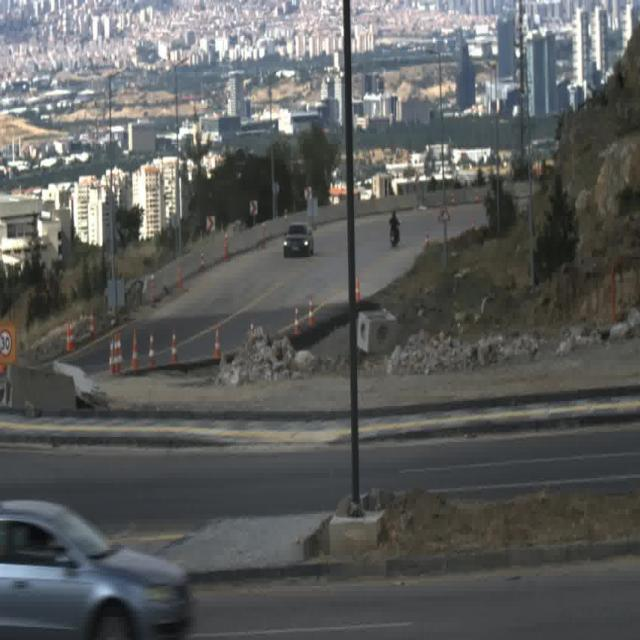Car: (0, 492, 193, 640), (283, 222, 314, 257)
Motorcycle: (388, 210, 401, 248)
